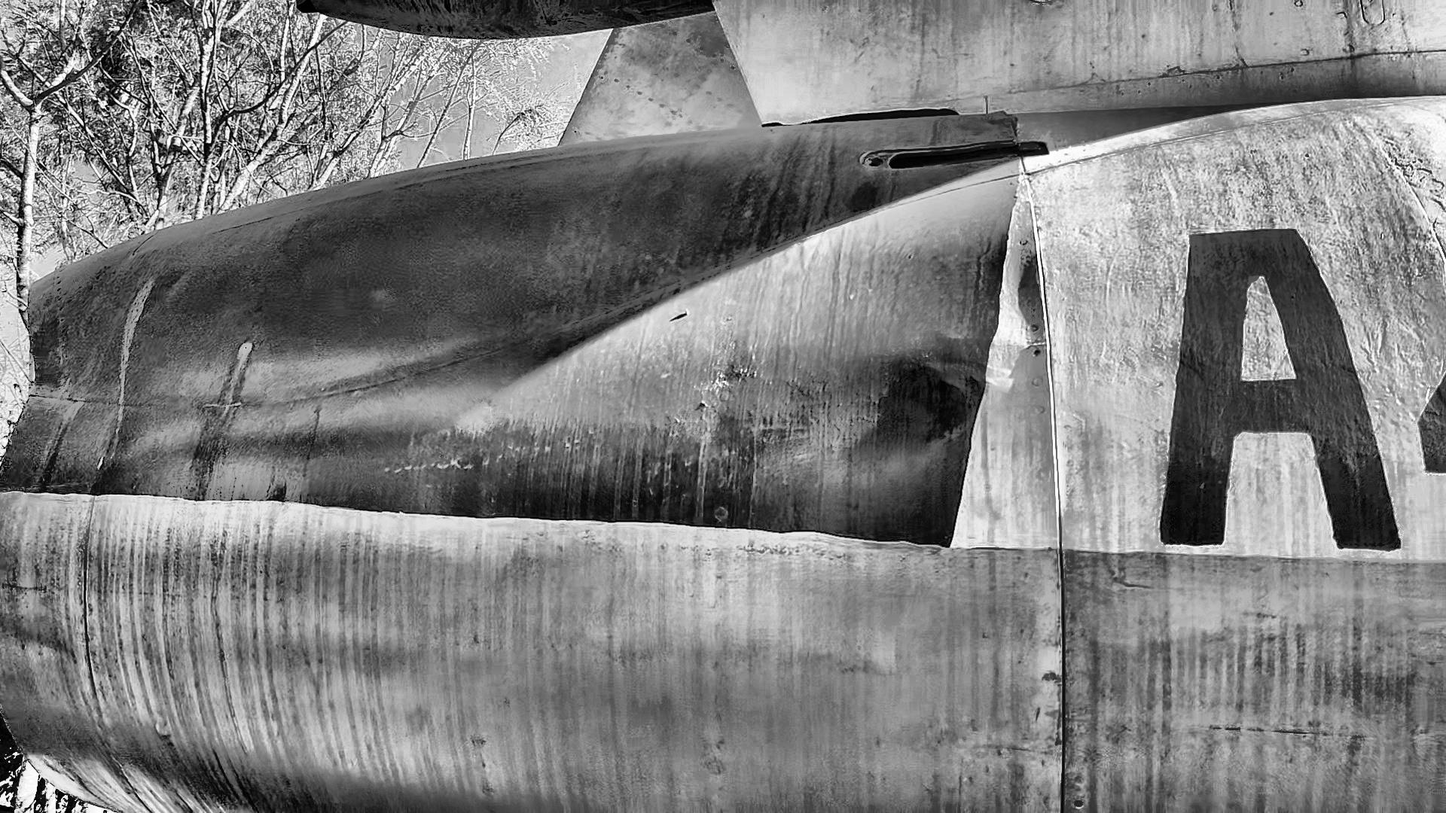dent: (904, 352, 992, 440), (1019, 254, 1047, 343)
missing-head: (1072, 799, 1086, 808), (1032, 349, 1042, 358)
paint-peel-off: (154, 723, 173, 740)
scratch: (1116, 578, 1149, 589), (1272, 729, 1309, 735), (1212, 725, 1242, 732), (973, 546, 1002, 551)
